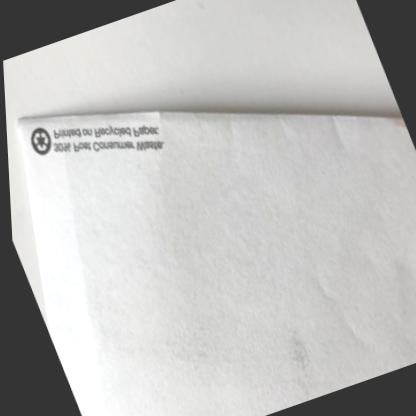Paper: (14, 110, 416, 416)
